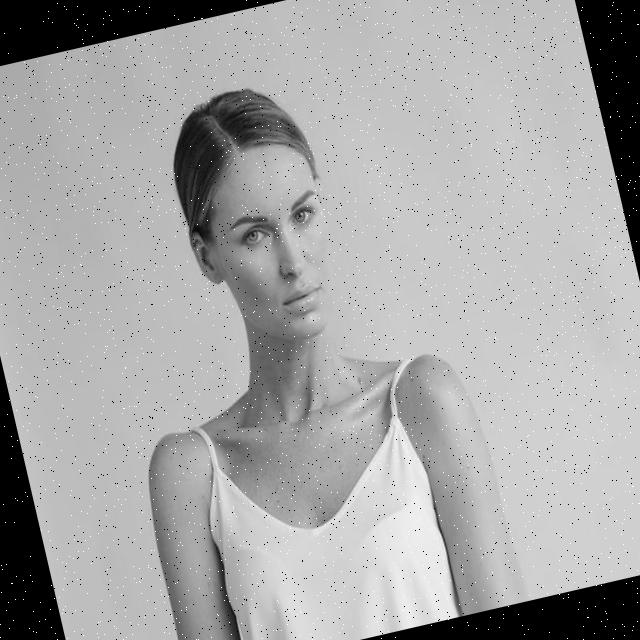Neutral: (196, 139, 351, 354)
